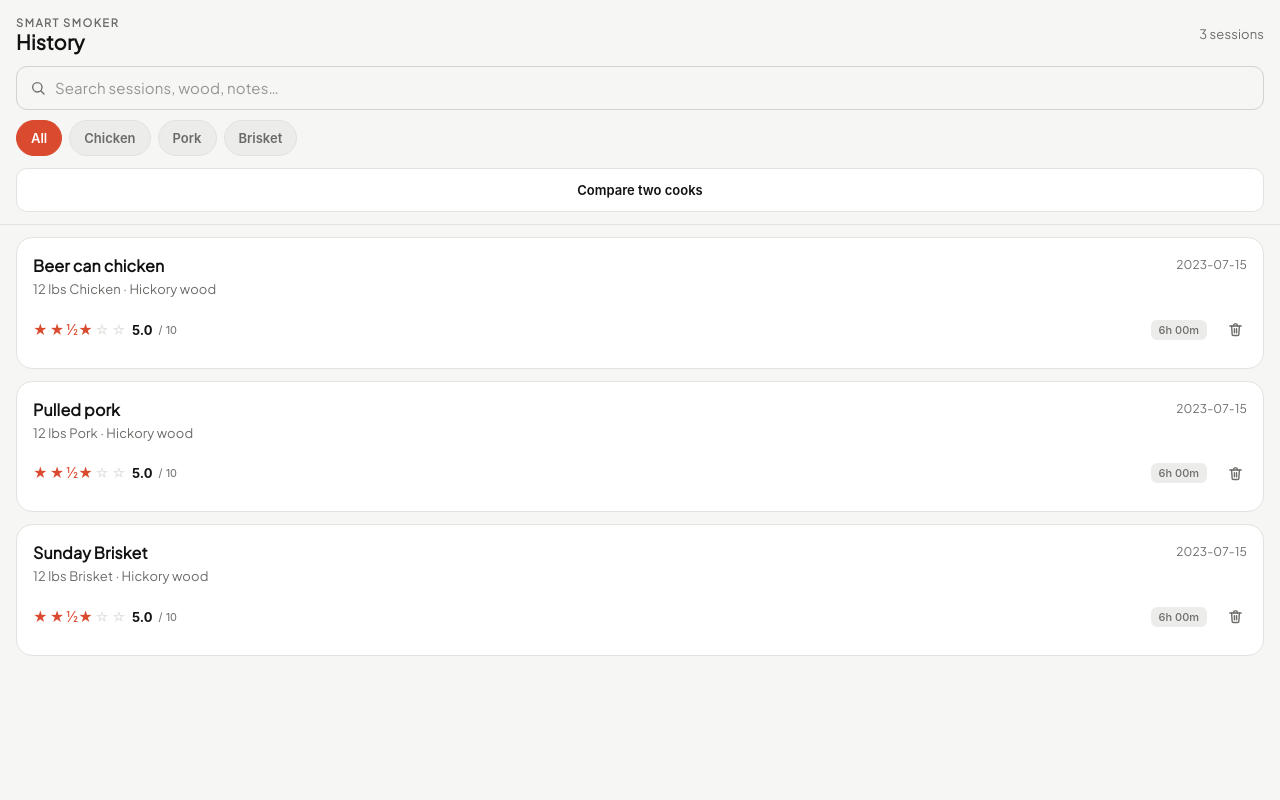
History › offers a chip per meat in the list, narrows to the chosen ones, and widens again
Check: the heading "Sunday Brisket" is shown, box [33, 542, 148, 563]
Click the button "Pork": {"x": 187, "y": 138} [158, 120, 216, 156]
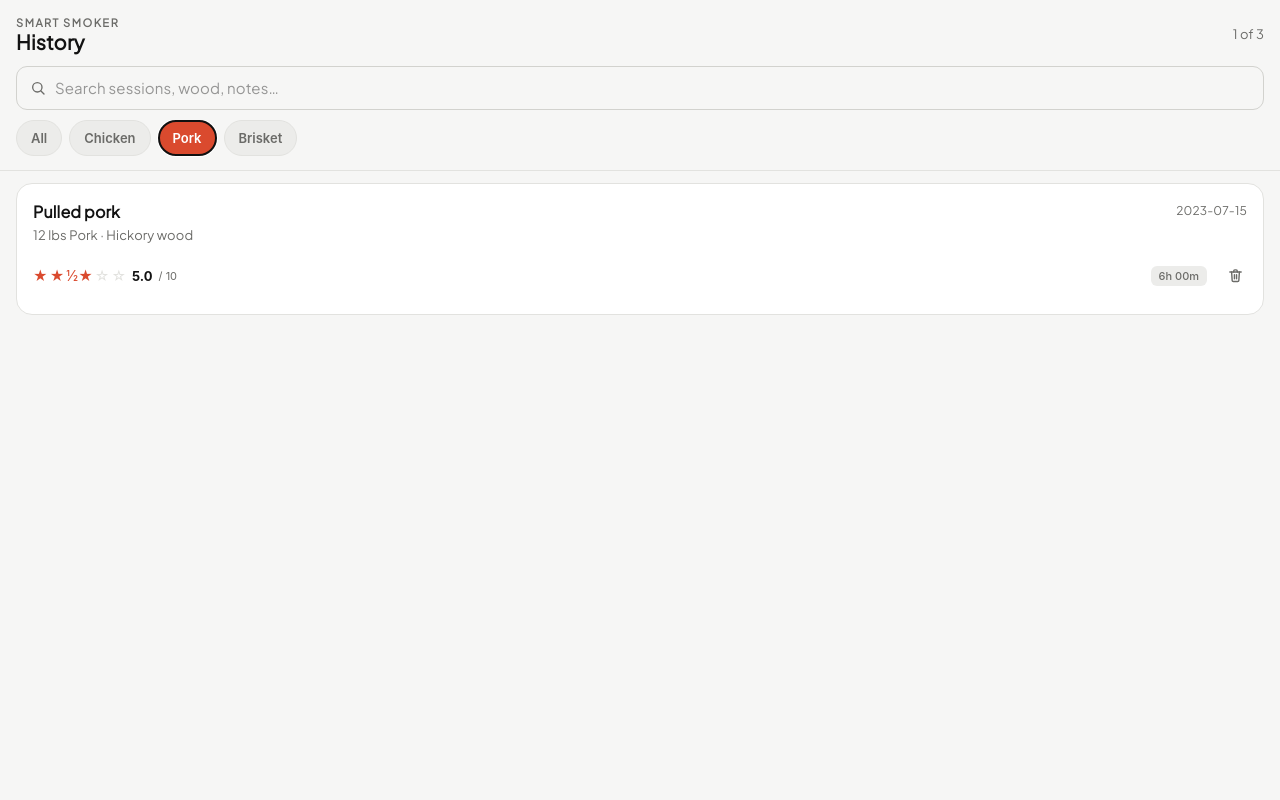
Check: the heading "Pulled pork" is shown, box [33, 201, 120, 222]
Check: the heading "Sunday Brisket" is gone
Check: the text with test id "history-count" reads "1 of 3", box [1233, 26, 1264, 42]
Click the button "Chicken": {"x": 110, "y": 138} [69, 120, 151, 156]
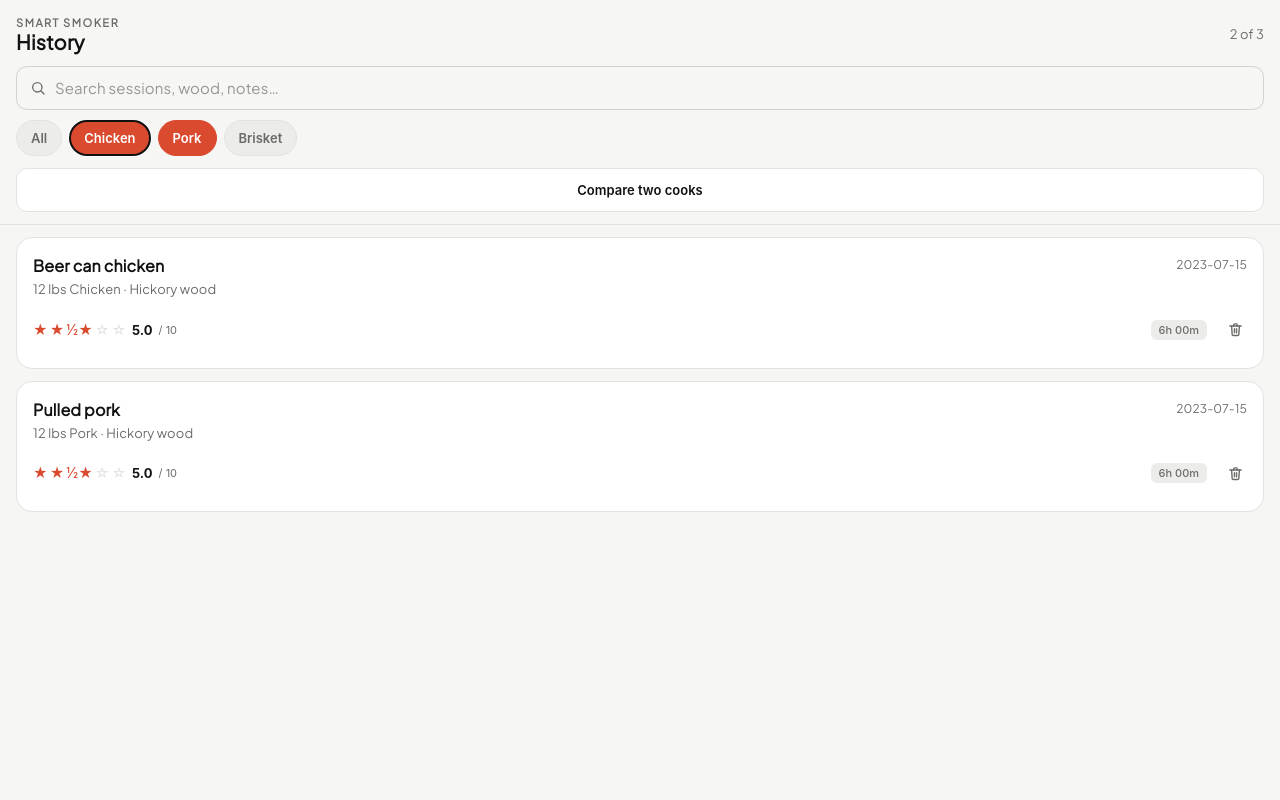
Check: the heading "Pulled pork" is shown, box [33, 399, 120, 420]
Check: the heading "Beer can chicken" is shown, box [33, 255, 164, 276]
Check: the text with test id "history-count" reads "2 of 3", box [1230, 26, 1264, 42]
Click the button "All": {"x": 39, "y": 138} [16, 120, 62, 156]
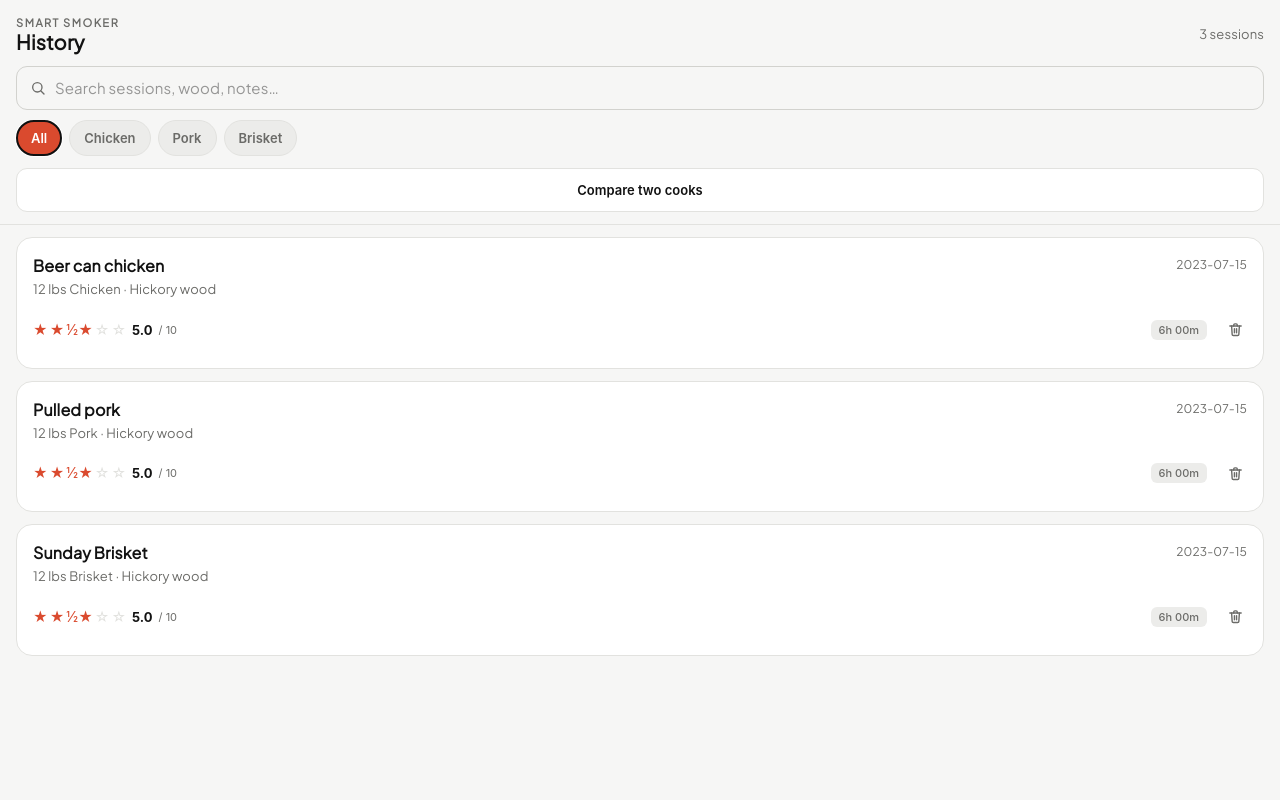
Check: the heading "Sunday Brisket" is shown, box [33, 542, 148, 563]
Check: the text with test id "history-count" reads "3 sessions", box [1199, 26, 1264, 42]
